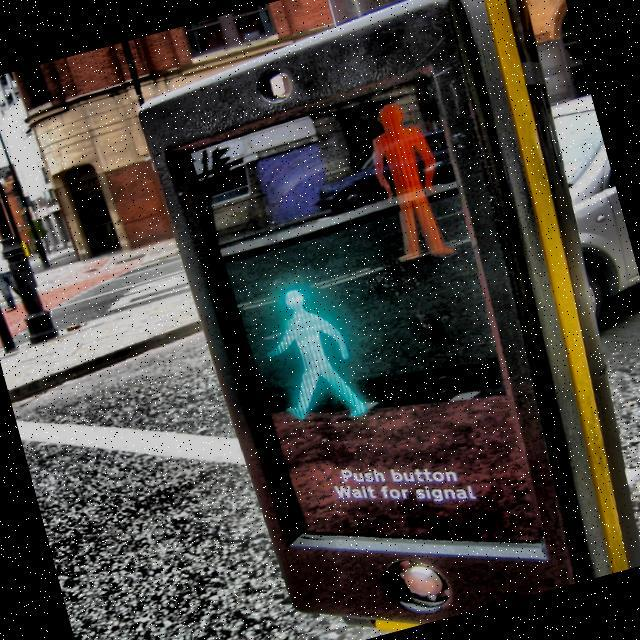green_light: (247, 273, 373, 438)
